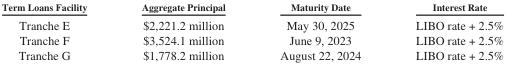table: (1, 0, 503, 61)
table column: (113, 0, 252, 61), (252, 0, 387, 61), (387, 0, 503, 61), (1, 0, 113, 61)
table column header: (1, 0, 503, 15)
table row: (1, 15, 503, 32), (1, 0, 503, 15), (1, 32, 503, 47), (1, 47, 503, 61)
